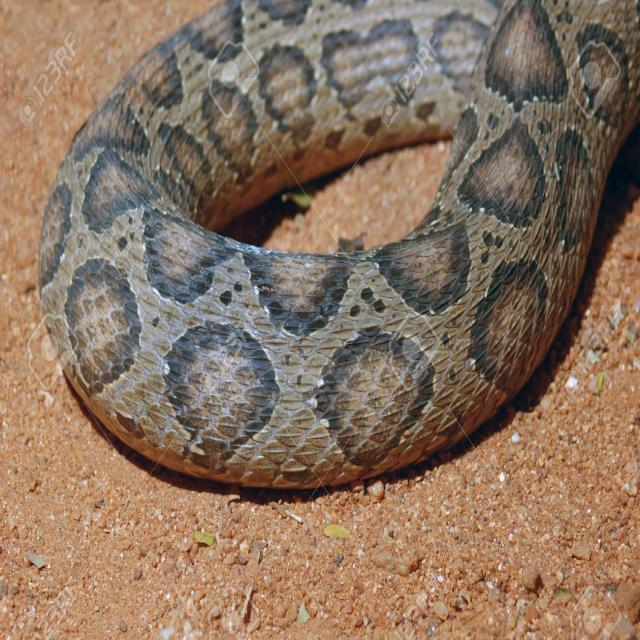Snake: (36, 0, 638, 492)
